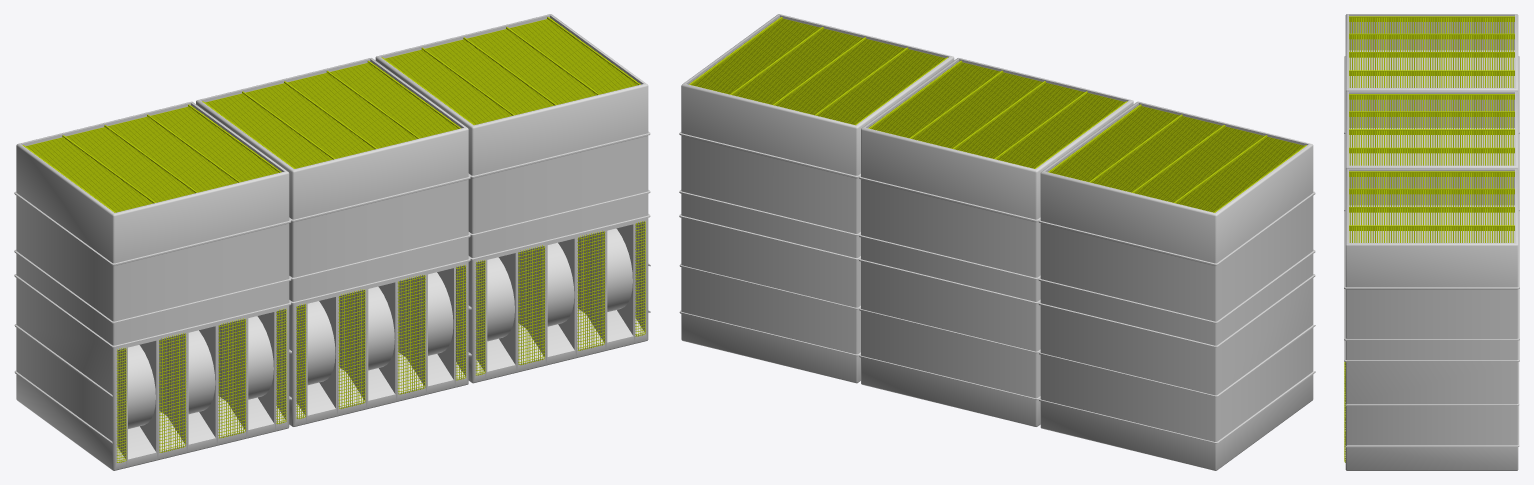
The picture shows the model from 3 angles, left to right: view 1: azimuth 30°, elevation 25°; view 2: azimuth 150°, elevation 25°; view 3: azimuth 270°, elevation 25°; orthographic projection. The views are drawn at different scales.
Parts seen in each view (by area): view 1: CT_1-1; view 2: CT_1-1; view 3: CT_1-1.
Part boxes in pixels (bbox=[...]): CT_1-1: bbox=[14, 14, 650, 470]; CT_1-1: bbox=[679, 14, 1315, 470]; CT_1-1: bbox=[1344, 14, 1519, 470].
Bounding box in the file's own units: 10976 × 5000 × 3507.
